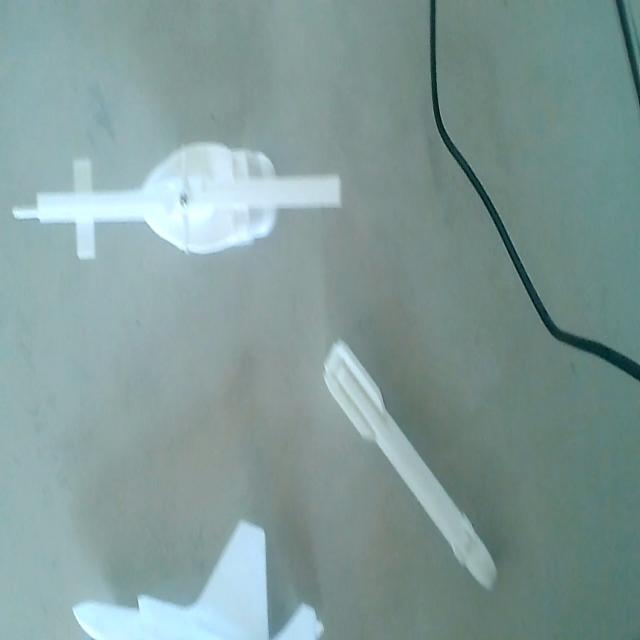Helicopter: (10, 128, 349, 261)
Rocket: (320, 333, 502, 593)
